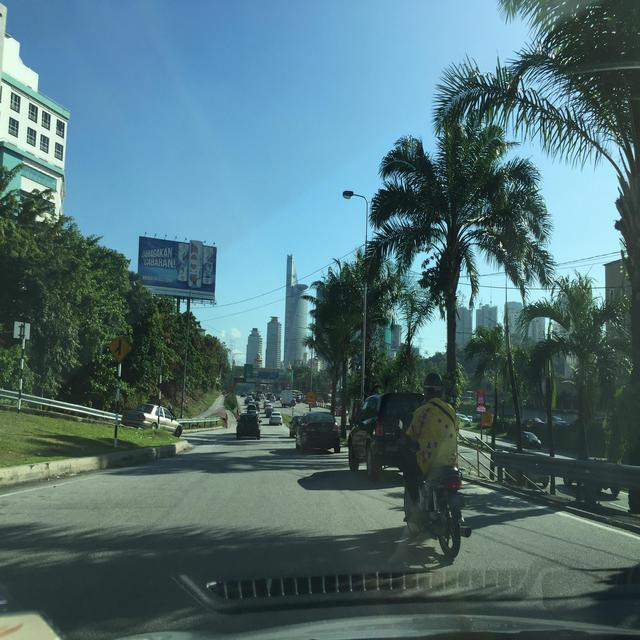Billboard: (138, 236, 216, 300), (477, 389, 491, 425), (306, 392, 315, 404)
Car: (347, 392, 425, 480), (236, 394, 340, 452), (455, 413, 547, 449), (553, 416, 612, 463), (121, 404, 182, 437)
Motorcycle: (398, 420, 471, 558)
Vegetation: (0, 163, 237, 413), (291, 365, 310, 394)
